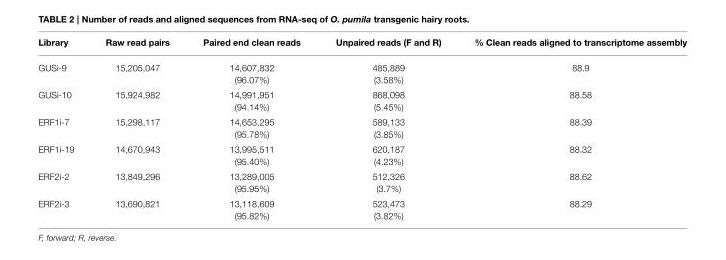table: (37, 37, 686, 220)
table column: (457, 37, 686, 220), (317, 37, 457, 220), (185, 37, 317, 220), (89, 37, 185, 220), (37, 37, 89, 220)
table column header: (37, 37, 686, 54)
table row: (37, 54, 686, 87), (37, 168, 686, 196), (37, 87, 686, 114), (37, 114, 686, 141), (37, 141, 686, 168), (37, 196, 686, 220), (37, 37, 686, 54)
